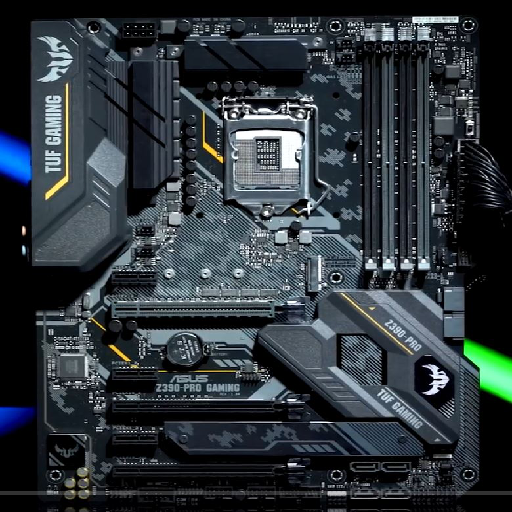CPU: (223, 105, 311, 216)
GPU: (110, 393, 312, 425), (112, 295, 310, 323), (110, 458, 312, 485)
RAM: (361, 27, 431, 275)
SSD: (306, 254, 323, 294)
